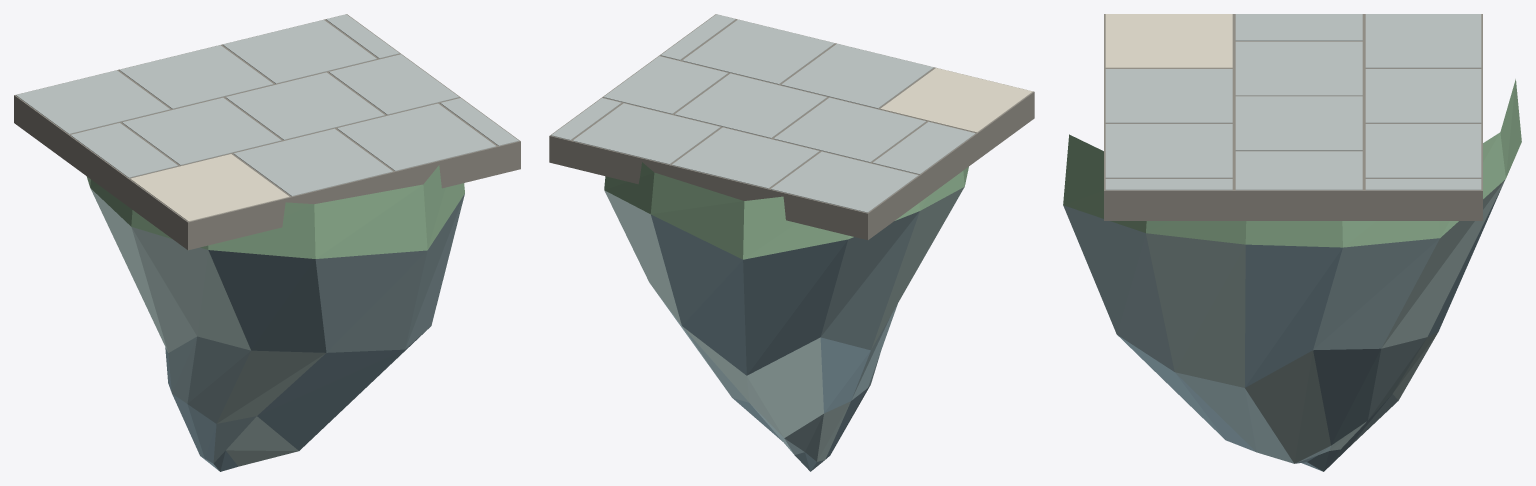
Rendered from FloatingIsland19.glb.
The picture shows the model from 3 angles, left to right: view 1: azimuth 30°, elevation 25°; view 2: azimuth 150°, elevation 25°; view 3: azimuth 270°, elevation 25°; orthographic projection. The views are drawn at different scales.
Visible parts, largest first — view 1: FloatingIsland19; view 2: FloatingIsland19; view 3: FloatingIsland19.
Part boxes in pixels (x1=…): FloatingIsland19: x1=14, y1=14, x2=520, y2=471; FloatingIsland19: x1=549, y1=14, x2=1034, y2=471; FloatingIsland19: x1=1063, y1=14, x2=1521, y2=471.
Size of the model in its own units: 3.38 by 3.46 by 3.71.
